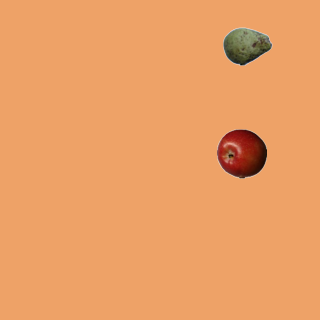Apple Braeburn: (216, 128, 266, 178)
Pear Stone: (222, 21, 272, 71)
